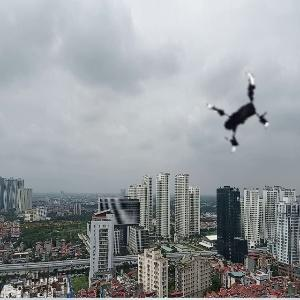drone: (186, 64, 284, 162)
